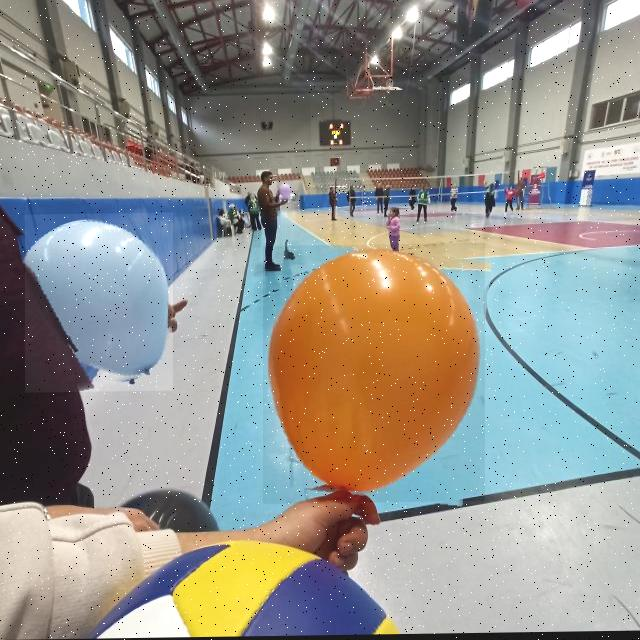balloon: (263, 244, 485, 505), (25, 213, 173, 393)
